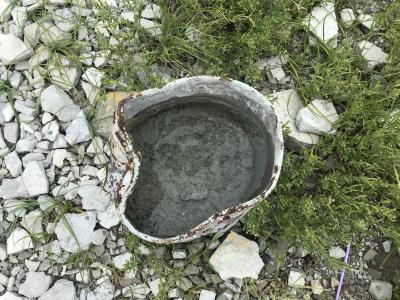bowl: (105, 74, 288, 250)
